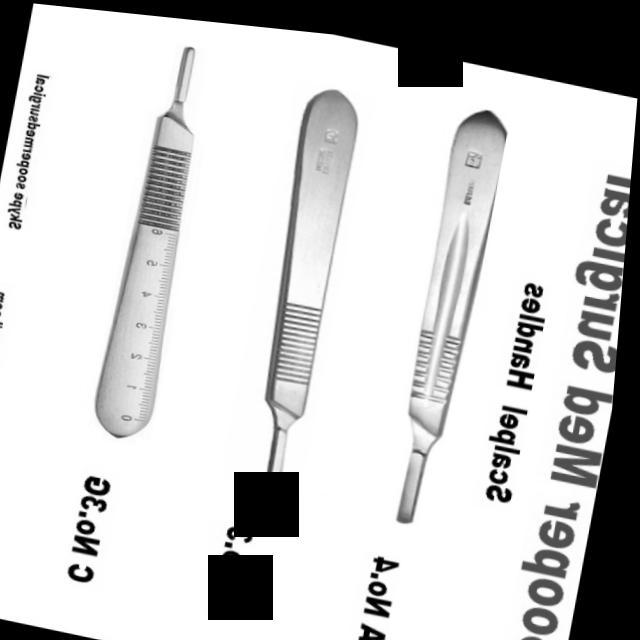Knife handle: (371, 86, 526, 526), (225, 64, 382, 492), (94, 29, 224, 447)
